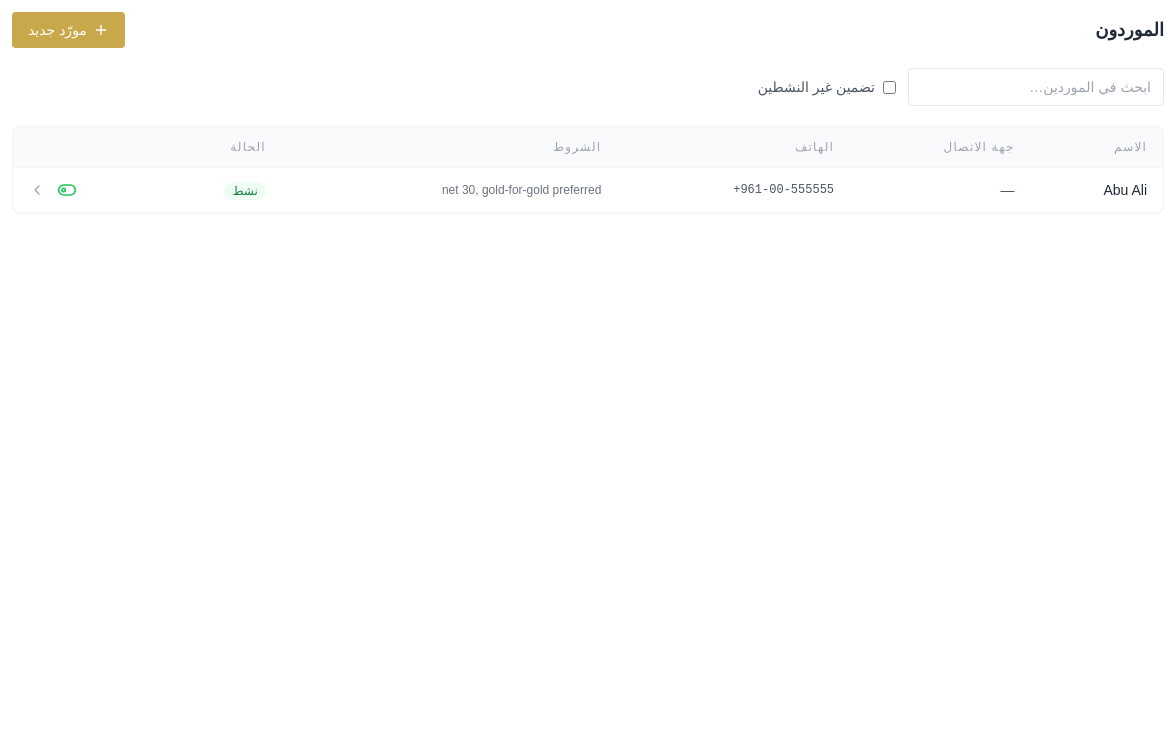
Scenario: suppliers list labels and i18n (NEX-64) › renders the new-supplier form in Arabic with no English left behind
Click the button "مورّد جديد".
click(68, 30)  # box [12,12,125,48]
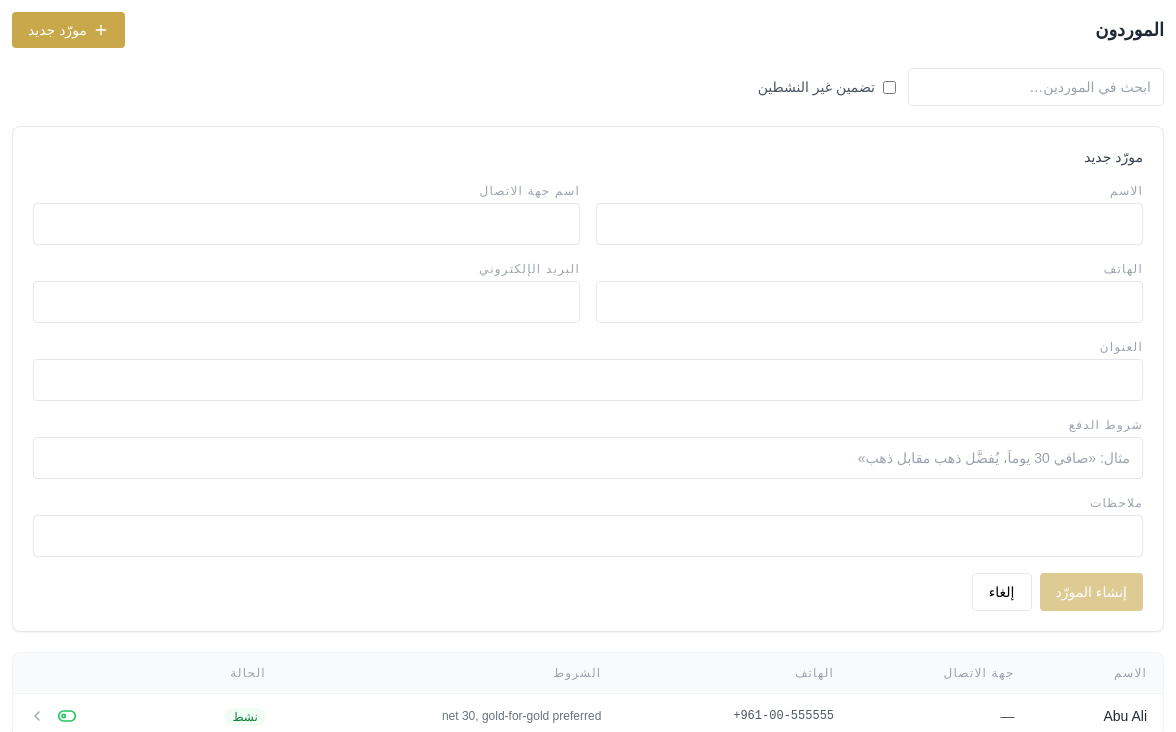
Expected: the field labelled "الاسم" is shown, [596,203,1143,245]
Expected: the field labelled "اسم جهة الاتصال" is shown, [33,203,580,245]
Expected: the field labelled "الهاتف" is shown, [596,281,1143,323]
